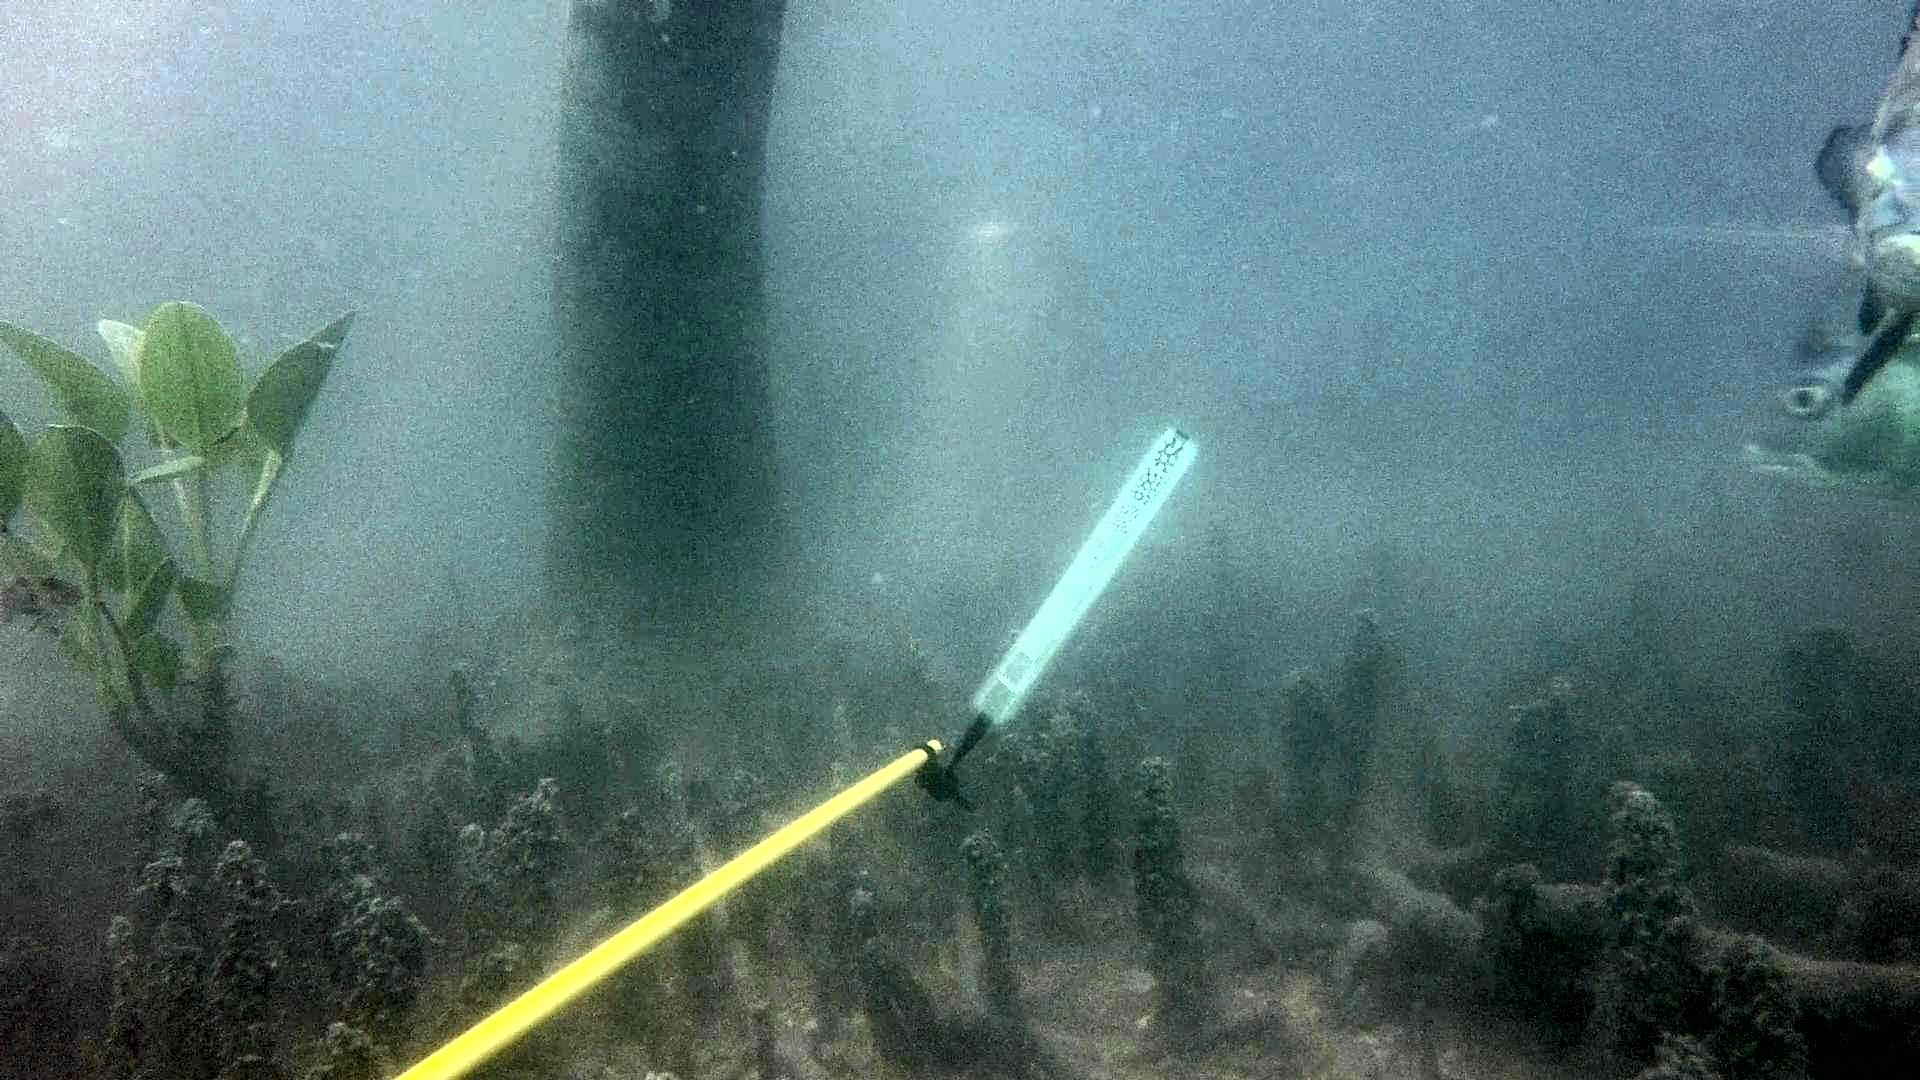acanthopagrus palmaris: (1643, 0, 1920, 417), (1726, 286, 1920, 518)
